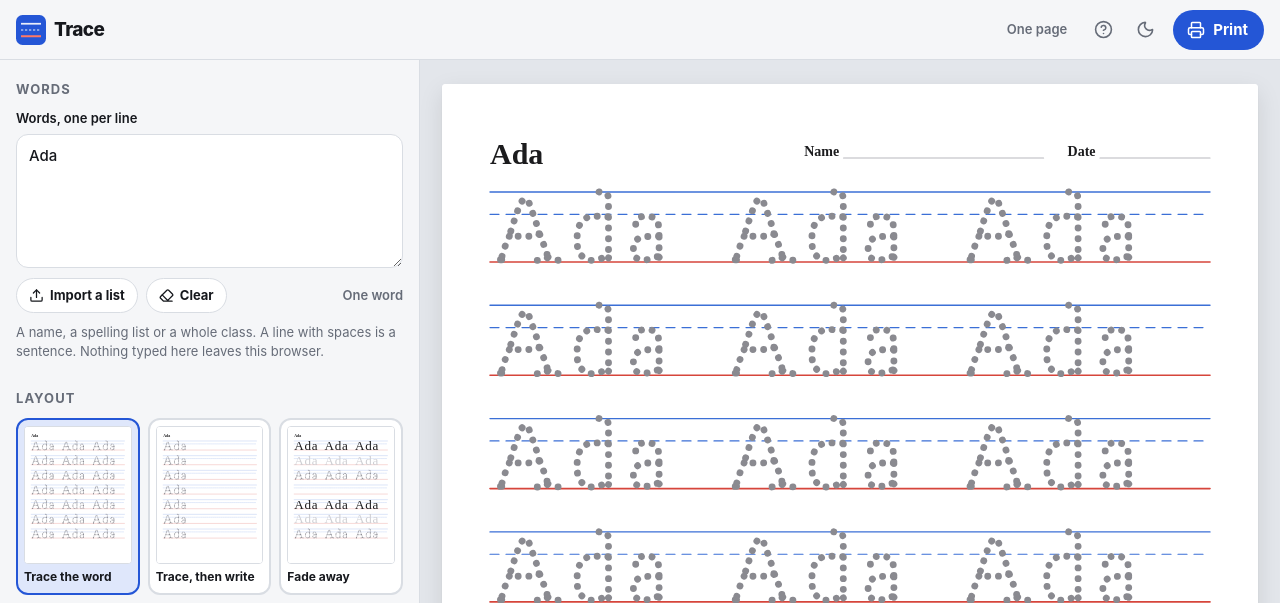
Test: words › prints lined paper when the box is emptied
Click the button "Clear" at (186, 296), box [146,278,227,313]
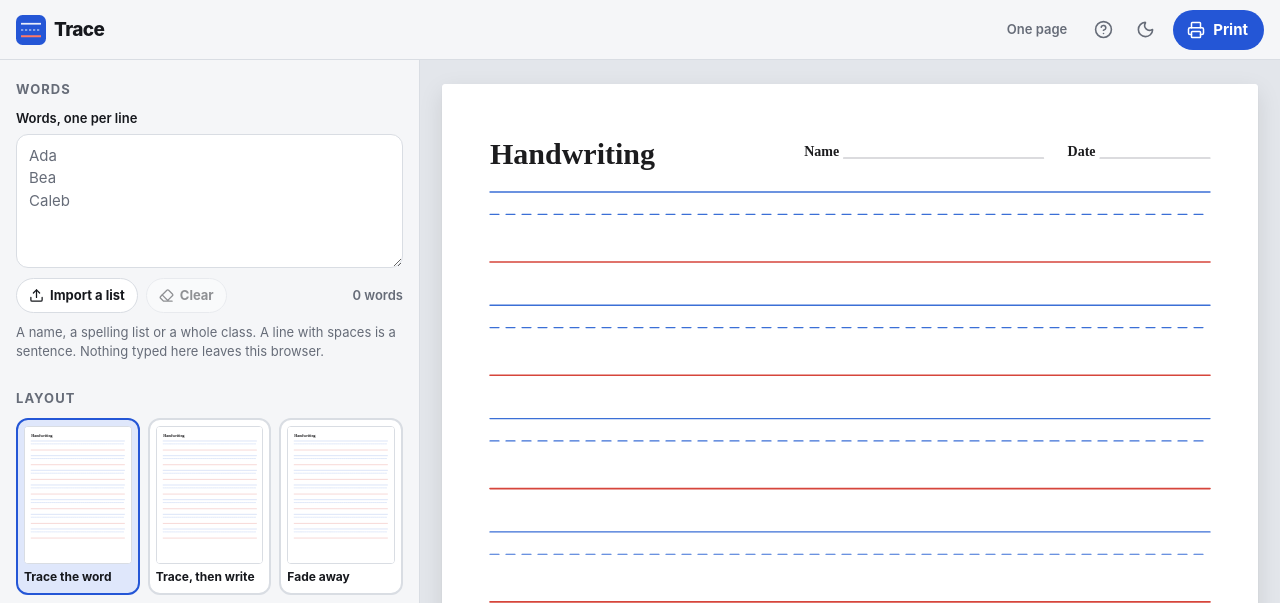
Check: the text "0 words" is shown, box [352,286,403,305]
